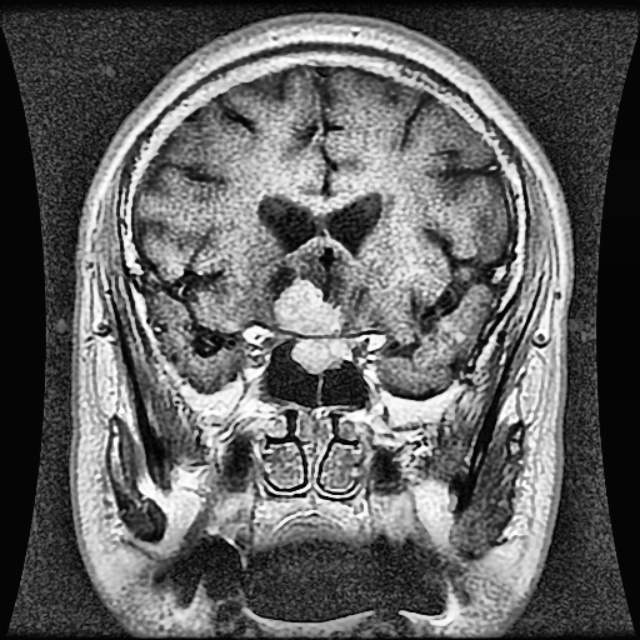Pituitary: (274, 278, 350, 372)
